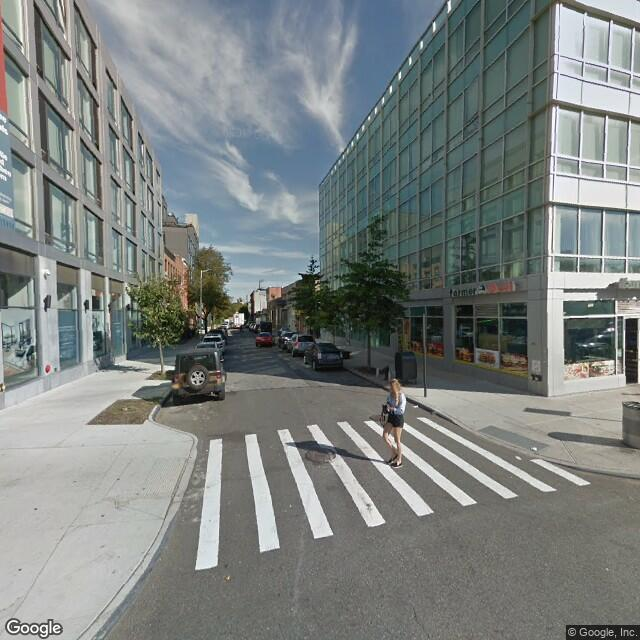litter: (527, 439, 547, 456), (511, 449, 525, 463), (409, 400, 423, 413)
